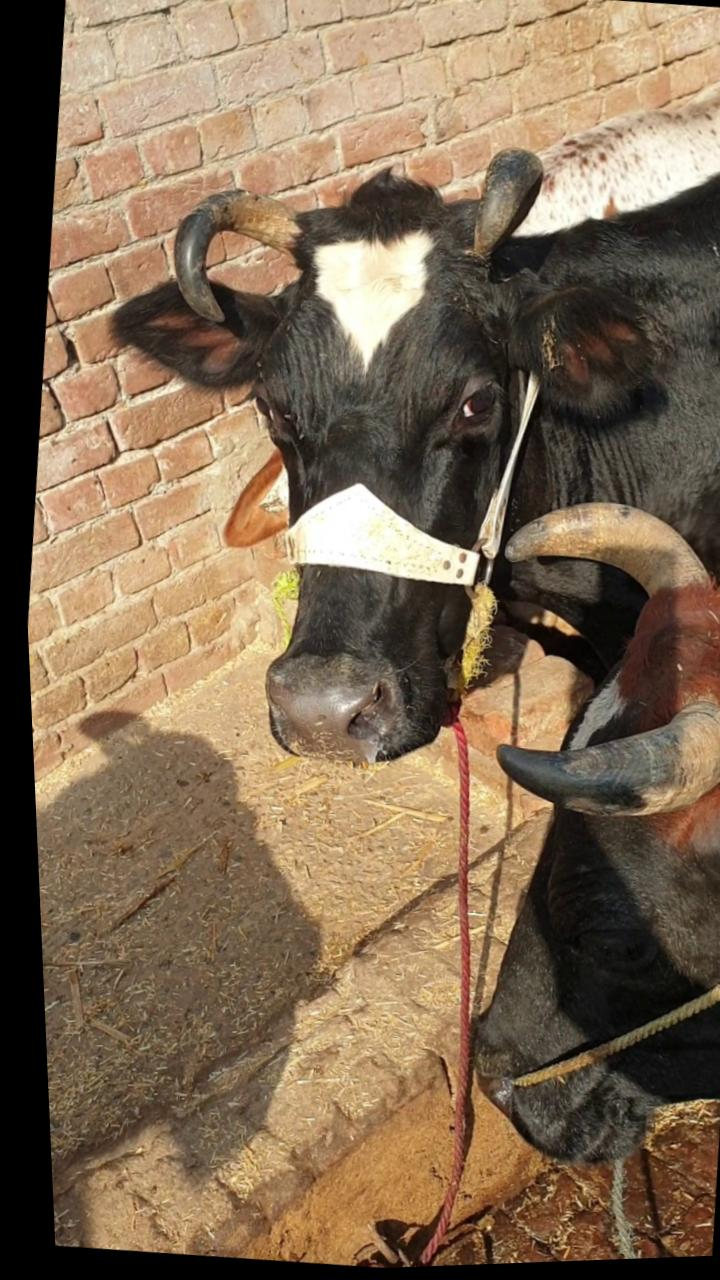cows: (155, 120, 591, 784), (434, 530, 720, 1196)
